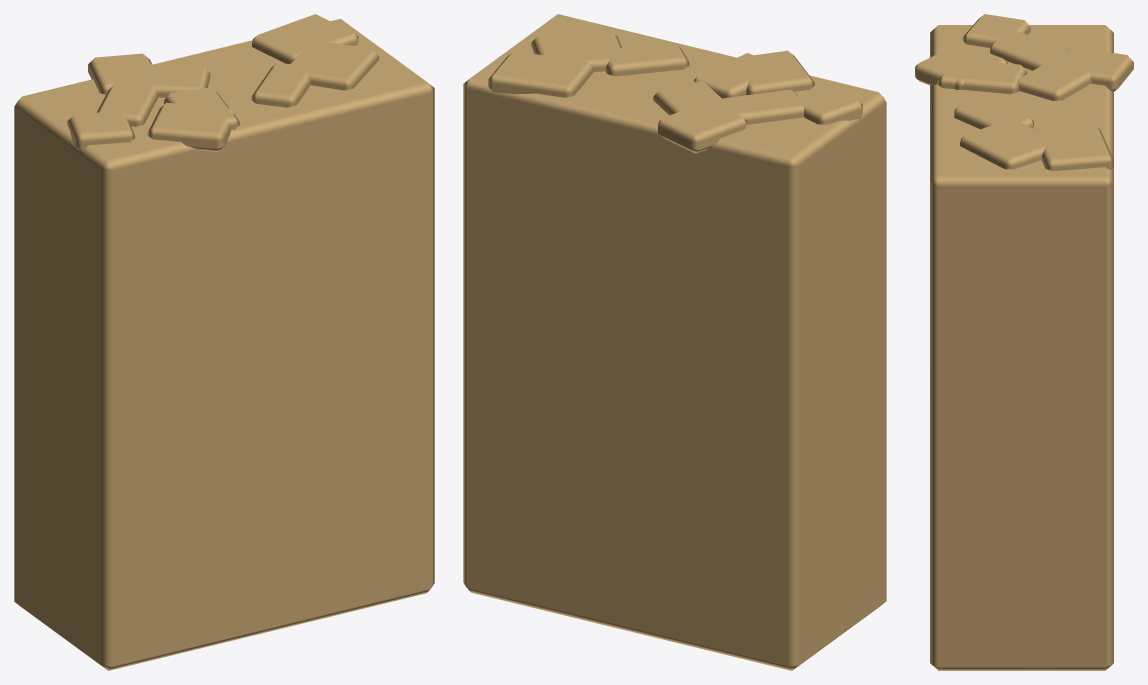
The model's file is BacksackSand1.glb.
3 views of the same model, side by side, from view 1: azimuth 30°, elevation 25°; view 2: azimuth 150°, elevation 25°; view 3: azimuth 270°, elevation 25° (orthographic). The views are drawn at different scales.
Parts seen in each view (by area): view 1: BacksackSand1.001; view 2: BacksackSand1.001; view 3: BacksackSand1.001.
Boxes of the visible parts, box(x1,y1,x2,y2) form: BacksackSand1.001: box(14, 14, 434, 670); BacksackSand1.001: box(463, 14, 886, 670); BacksackSand1.001: box(915, 14, 1133, 670).
Size of the model in its own units: 0.4348 by 0.6477 by 0.2543.
